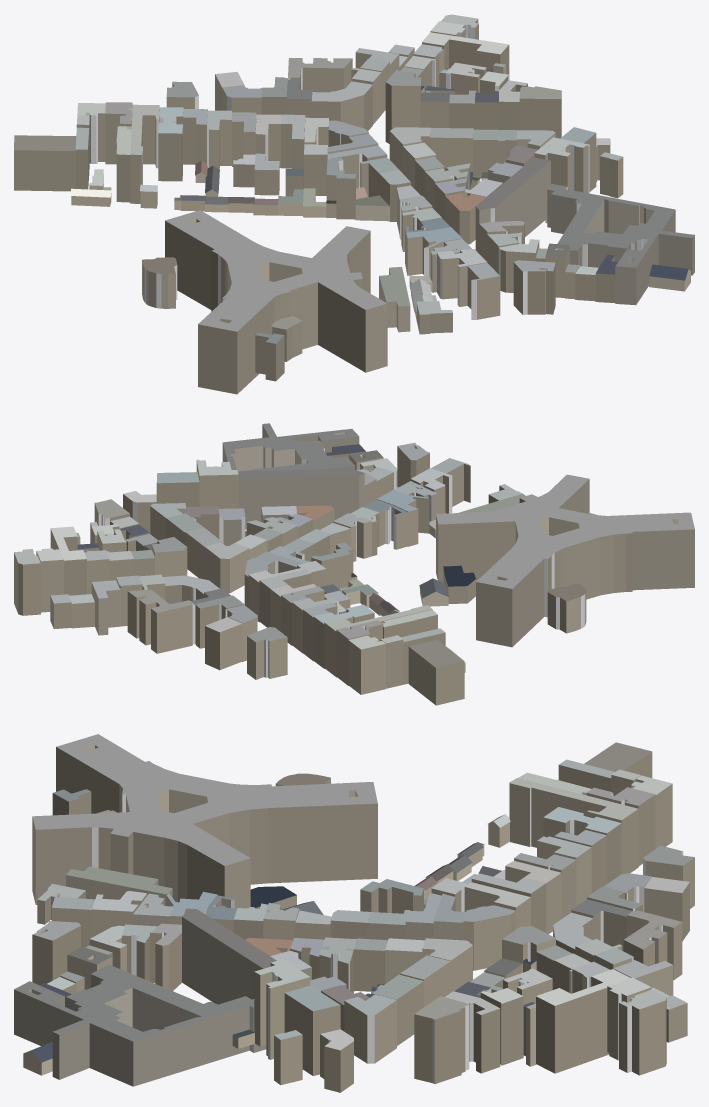
The picture shows the model from 3 angles, top to bottom: view 1: azimuth 30°, elevation 25°; view 2: azimuth 150°, elevation 25°; view 3: azimuth 270°, elevation 25°; orthographic projection. The views are drawn at different scales.
Visible parts, largest first — view 1: tuile; view 2: tuile; view 3: tuile.
Part boxes in pixels (bbox=[...]): tuile: bbox=[14, 14, 694, 394]; tuile: bbox=[14, 423, 694, 705]; tuile: bbox=[14, 734, 694, 1092].
Size of the model in its own units: 285 by 44.49 by 273.
